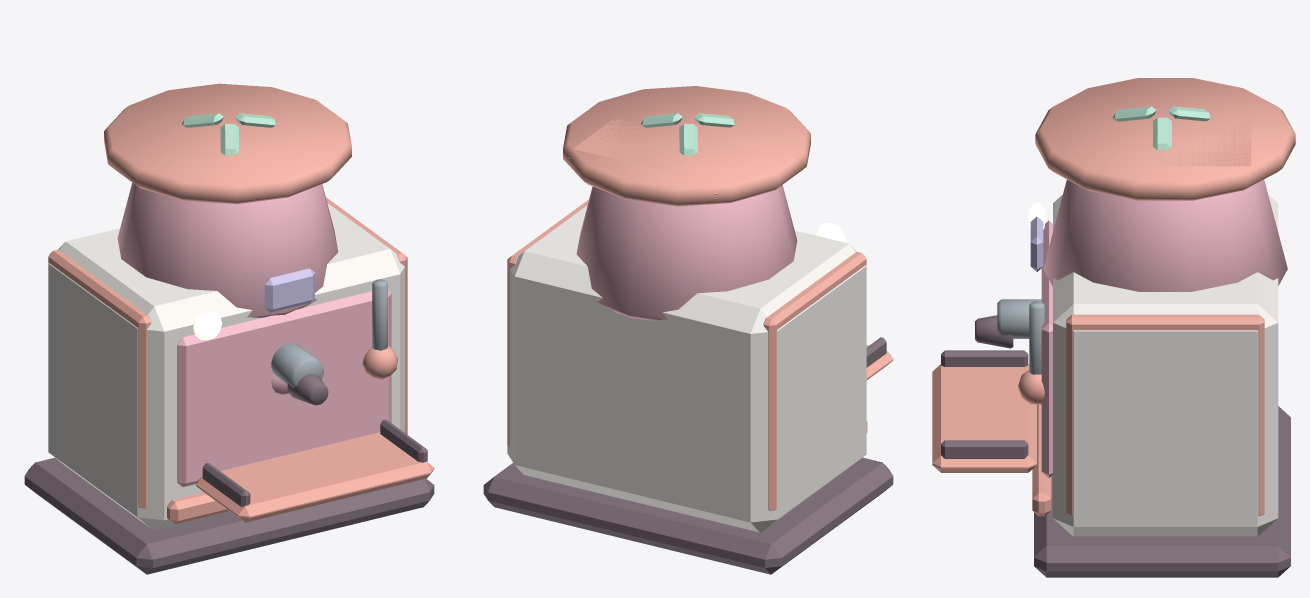
The model's file is machine_strawberry.glb.
The picture shows the model from 3 angles, left to right: view 1: azimuth 30°, elevation 25°; view 2: azimuth 150°, elevation 25°; view 3: azimuth 270°, elevation 25°; orthographic projection. The views are drawn at different scales.
Parts seen in each view (by area): view 1: Machine_Strawberry_Body, Machine_Strawberry_FlavorPanel, Machine_Strawberry_HopperRim, Machine_Strawberry_Hopper, Machine_Strawberry_Base, Machine_Strawberry_RemovableOutputTray, Machine_Strawberry_L2_Rail_Left, Machine_Strawberry_L3_Badge, Machine_Strawberry_NozzleNeck, Machine_Strawberry, Machine_Strawberry_LowerTrim, Machine_Strawberry_LeverRod (+6 smaller); view 2: Machine_Strawberry_Body, Machine_Strawberry_HopperRim, Machine_Strawberry_Hopper, Machine_Strawberry_Base, Machine_Strawberry_L2_Rail_Left, Machine_Strawberry_Hatch, Machine_Strawberry, Machine_Strawberry_L2_Rail_Right; view 3: Machine_Strawberry_Body, Machine_Strawberry_HopperRim, Machine_Strawberry_Hopper, Machine_Strawberry_Base, Machine_Strawberry_RemovableOutputTray, Machine_Strawberry_L2_Rail_Right, Machine_Strawberry_FlavorPanel, Machine_Strawberry_Hatch, Machine_Strawberry_TrayRail_R, Machine_Strawberry, Machine_Strawberry_TrayRail_L, Machine_Strawberry_NozzleNeck (+5 smaller).
Part boxes in pixels (x1,y1,x2,y2): Machine_Strawberry_Body: [48, 203, 404, 530]; Machine_Strawberry_FlavorPanel: [177, 290, 391, 486]; Machine_Strawberry_HopperRim: [104, 83, 351, 204]; Machine_Strawberry_Hopper: [117, 183, 338, 317]; Machine_Strawberry_Base: [24, 457, 434, 574]; Machine_Strawberry_RemovableOutputTray: [196, 432, 434, 522]; Machine_Strawberry_L2_Rail_Left: [48, 249, 151, 508]; Machine_Strawberry_L3_Badge: [264, 268, 314, 312]; Machine_Strawberry_NozzleNeck: [271, 343, 323, 388]; Machine_Strawberry: [182, 113, 276, 155]; Machine_Strawberry_LowerTrim: [167, 492, 229, 524]; Machine_Strawberry_LeverRod: [372, 279, 387, 350]; Machine_Strawberry_Body: [507, 205, 866, 532]; Machine_Strawberry_HopperRim: [563, 86, 810, 206]; Machine_Strawberry_Hopper: [576, 185, 797, 320]; Machine_Strawberry_Base: [483, 457, 893, 574]; Machine_Strawberry_L2_Rail_Left: [763, 252, 866, 510]; Machine_Strawberry_Hatch: [567, 116, 758, 194]; Machine_Strawberry: [641, 113, 735, 155]; Machine_Strawberry_L2_Rail_Right: [507, 199, 588, 447]; Machine_Strawberry_Body: [1053, 194, 1278, 536]; Machine_Strawberry_HopperRim: [1035, 78, 1295, 200]; Machine_Strawberry_Hopper: [1043, 179, 1287, 291]; Machine_Strawberry_Base: [1034, 406, 1290, 577]; Machine_Strawberry_RemovableOutputTray: [932, 364, 1036, 472]; Machine_Strawberry_L2_Rail_Right: [1066, 314, 1264, 516]; Machine_Strawberry_FlavorPanel: [1041, 220, 1052, 477]; Machine_Strawberry_Hatch: [1156, 112, 1258, 174]; Machine_Strawberry_TrayRail_R: [941, 440, 1028, 458]; Machine_Strawberry: [1113, 106, 1211, 150]; Machine_Strawberry_TrayRail_L: [941, 350, 1028, 366]; Machine_Strawberry_NozzleNeck: [997, 299, 1041, 338].
Size of the model in its own units: 2.28 by 2.9 by 2.29.
